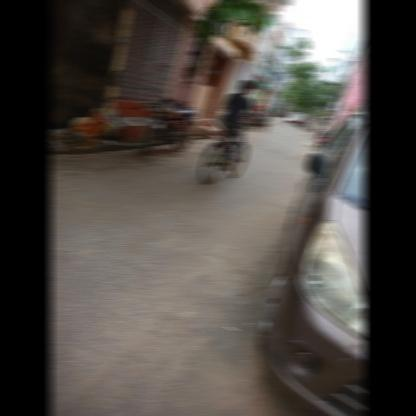Bicycle: (187, 113, 265, 189)
